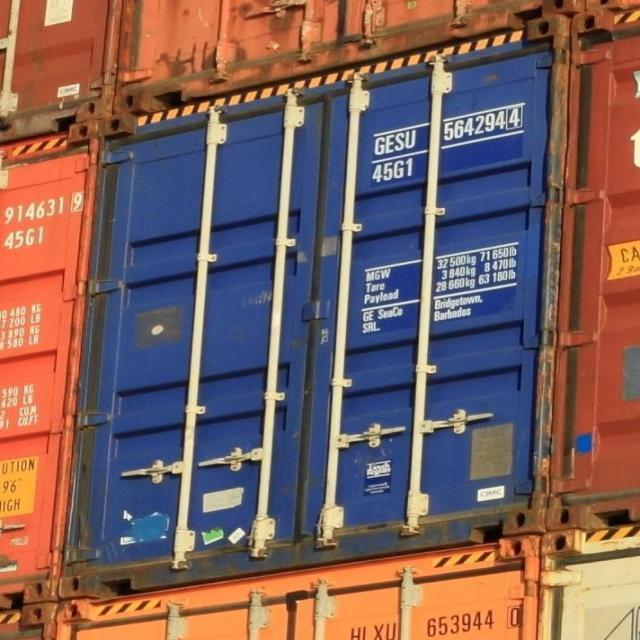ISO: (370, 158, 417, 184)
container_number: (374, 110, 526, 158)
